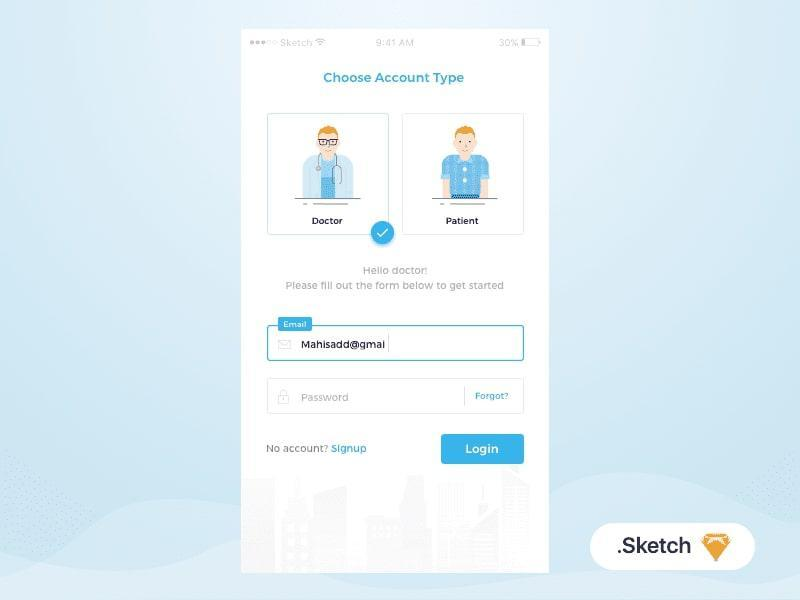button: (442, 433, 525, 466), (467, 379, 526, 413)
input: (268, 326, 525, 362), (265, 377, 466, 415)
label: (279, 317, 314, 332)
